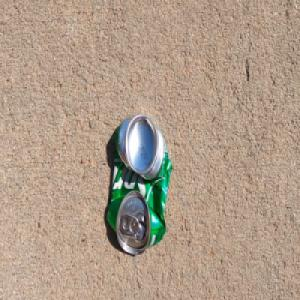SodaCan: (105, 113, 172, 258)
